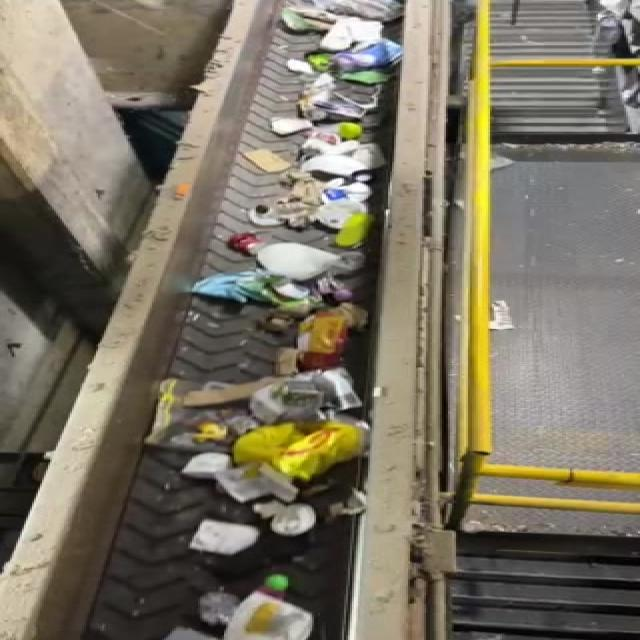paper: (176, 514, 258, 562)
pp: (235, 423, 384, 480), (265, 500, 342, 541)
